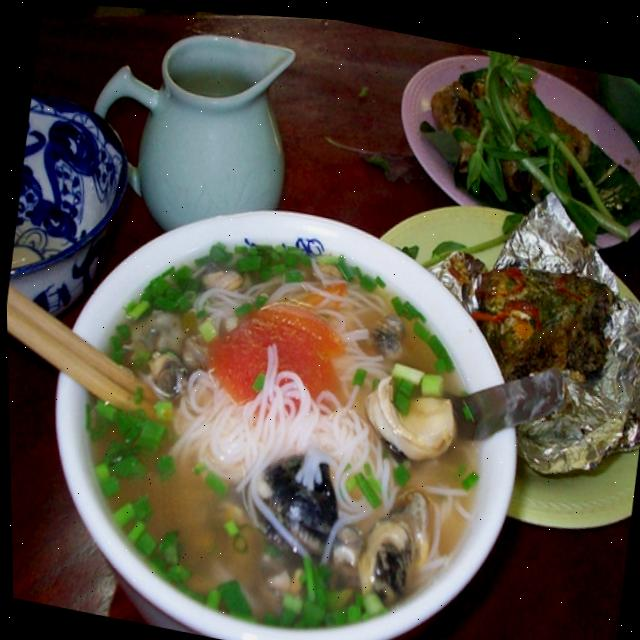面条主食: (13, 145, 558, 640)
